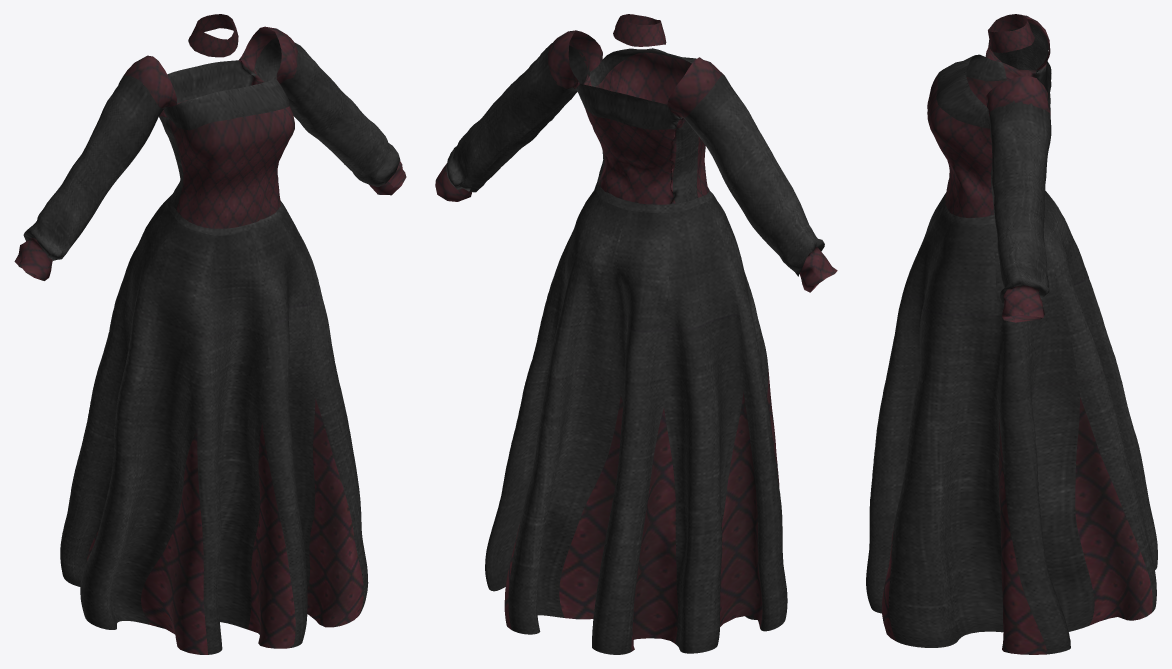
File: female-dress.glb
3 views of the same model, side by side, from view 1: azimuth 30°, elevation 25°; view 2: azimuth 150°, elevation 25°; view 3: azimuth 270°, elevation 25° (orthographic). The views are drawn at different scales.
Visible parts, largest first — view 1: BLUSA; view 2: BLUSA; view 3: BLUSA.
Part boxes in pixels (bbox=[...]): BLUSA: bbox=[14, 14, 406, 654]; BLUSA: bbox=[435, 14, 837, 654]; BLUSA: bbox=[866, 14, 1157, 654].
Bounding box in the file's own units: 1.74 × 2.51 × 1.13.
2 materials, 2 textured.
